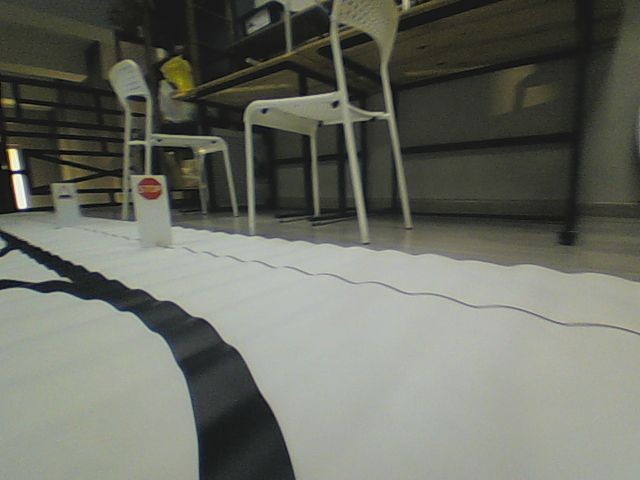Stop: (136, 176, 162, 200)
